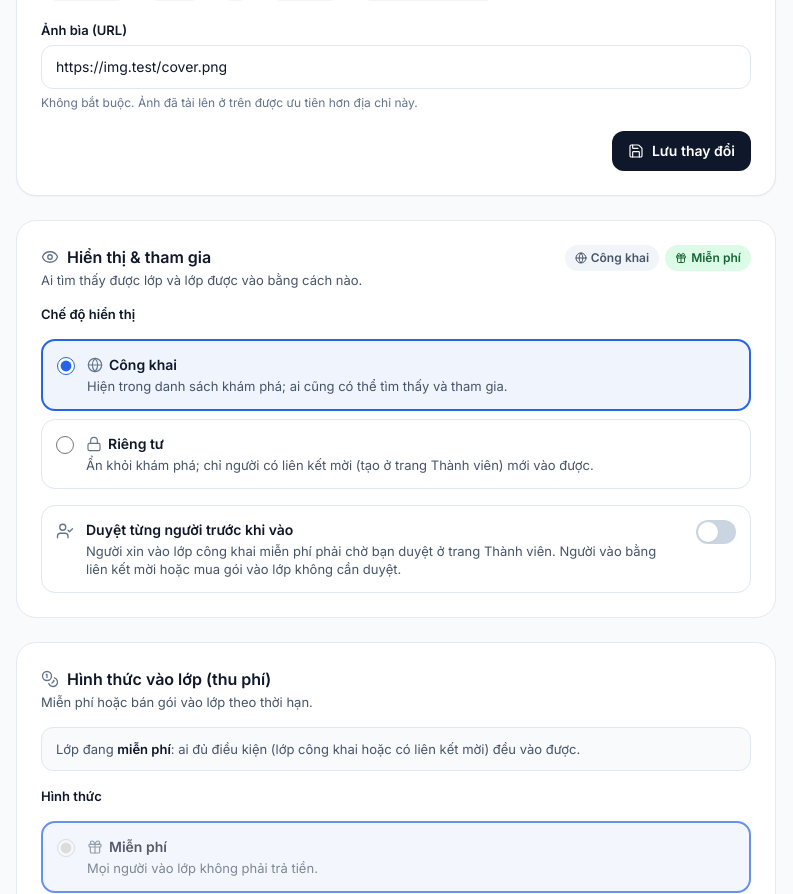
Test case: StudioSettings - visibility (Hiển thị & tham gia) › a staff member with CLASS:EDIT can change the visibility
(page scrolled)
Click the radio button labelled "Riêng tư" at (65, 445), box [56,436,74,454]
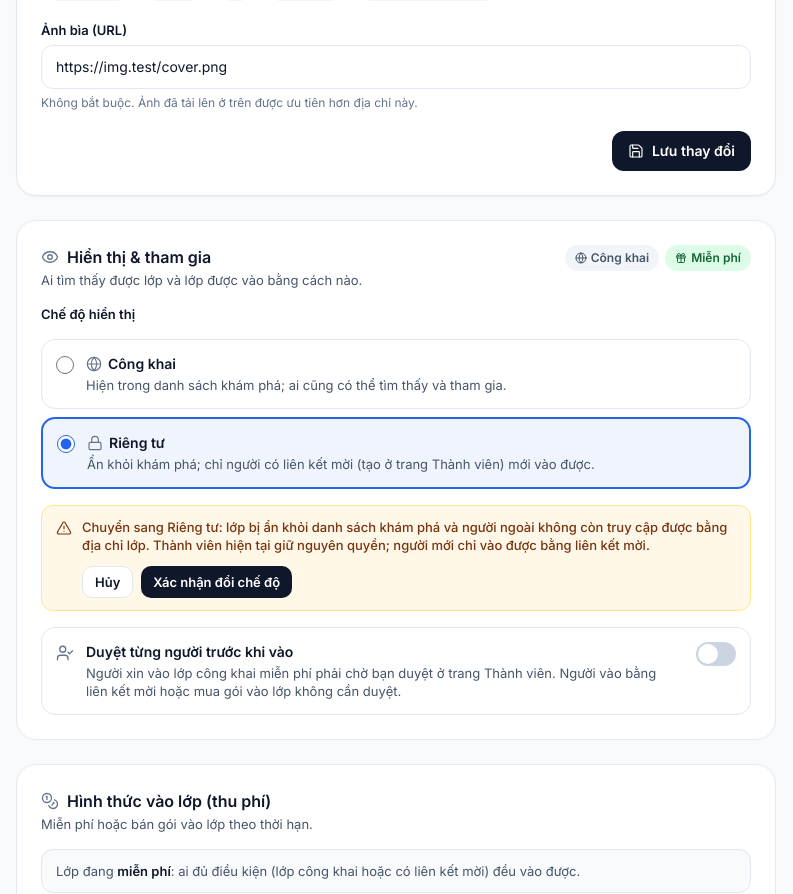
Expected: the button "Xác nhận đổi chế độ" is shown, [141,566,292,598]
